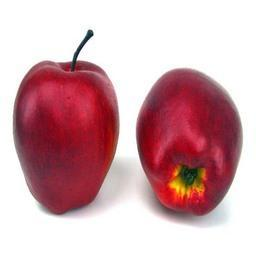apple: (12, 57, 120, 219), (134, 67, 244, 214)
